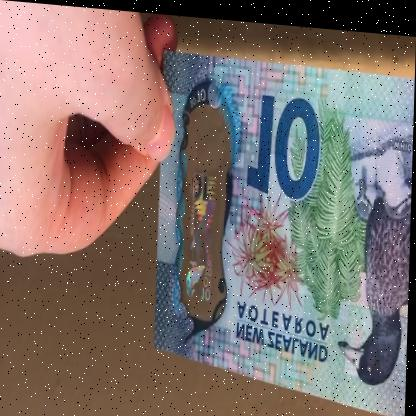10F: (184, 117, 228, 304)
